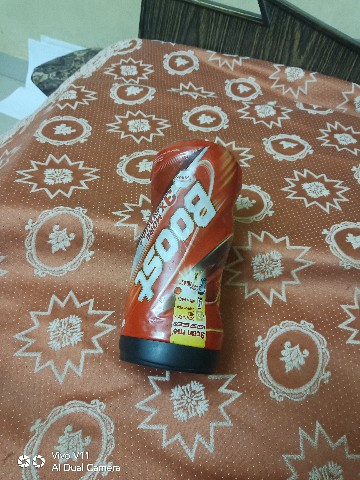boost big: (109, 118, 256, 402)
